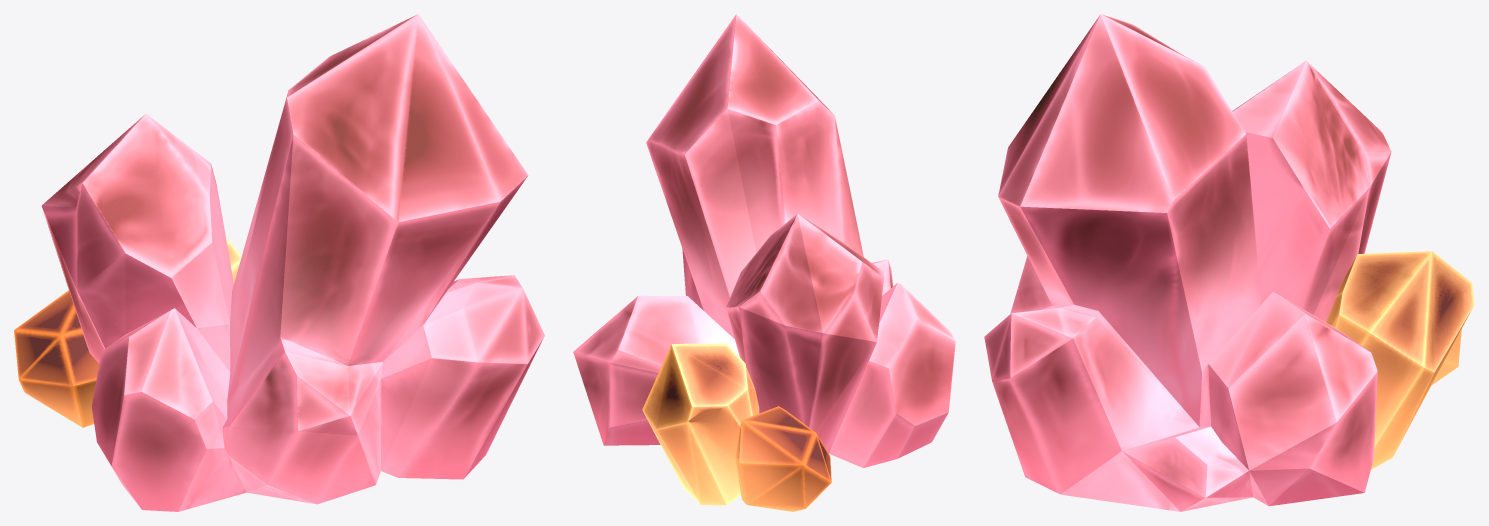
The model's file is crystal_chunk_002.fbx.
3 renders of one model, left to right at view 1: azimuth 30°, elevation 25°; view 2: azimuth 150°, elevation 25°; view 3: azimuth 270°, elevation 25°, orthographic. The views are drawn at different scales.
Visible parts, largest first — view 1: crystal_chunk.002; view 2: crystal_chunk.002; view 3: crystal_chunk.002.
Part boxes in pixels (box(x1,y1,x2,y2)): crystal_chunk.002: box(14, 14, 544, 511); crystal_chunk.002: box(573, 14, 955, 511); crystal_chunk.002: box(984, 14, 1474, 511).
Size of the model in its own units: 12.17 by 13.58 by 12.22.
